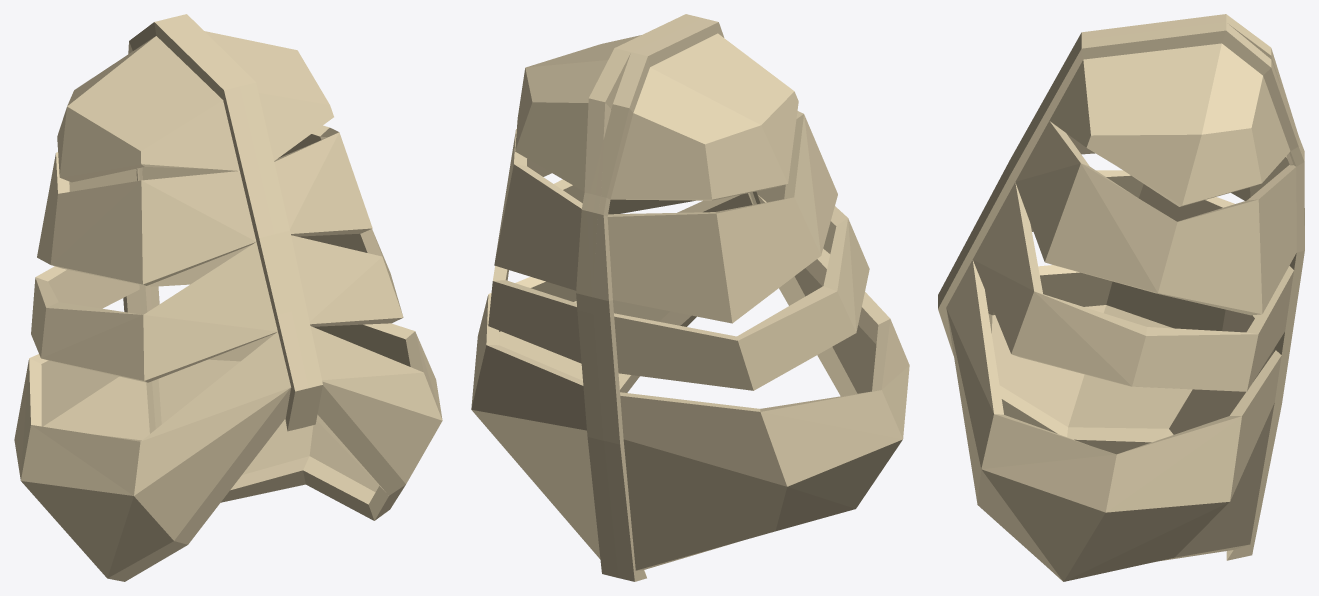
The model's file is ribcage.fbx.
3 renders of one model, left to right at view 1: azimuth 30°, elevation 25°; view 2: azimuth 150°, elevation 25°; view 3: azimuth 270°, elevation 25°, orthographic. The views are drawn at different scales.
Visible parts, largest first — view 1: Cube; view 2: Cube; view 3: Cube.
Part boxes in pixels (bbox=[...]): Cube: bbox=[14, 14, 442, 581]; Cube: bbox=[471, 14, 909, 581]; Cube: bbox=[938, 14, 1304, 581].
Size of the model in its own units: 35.67 by 41.84 by 26.23.
